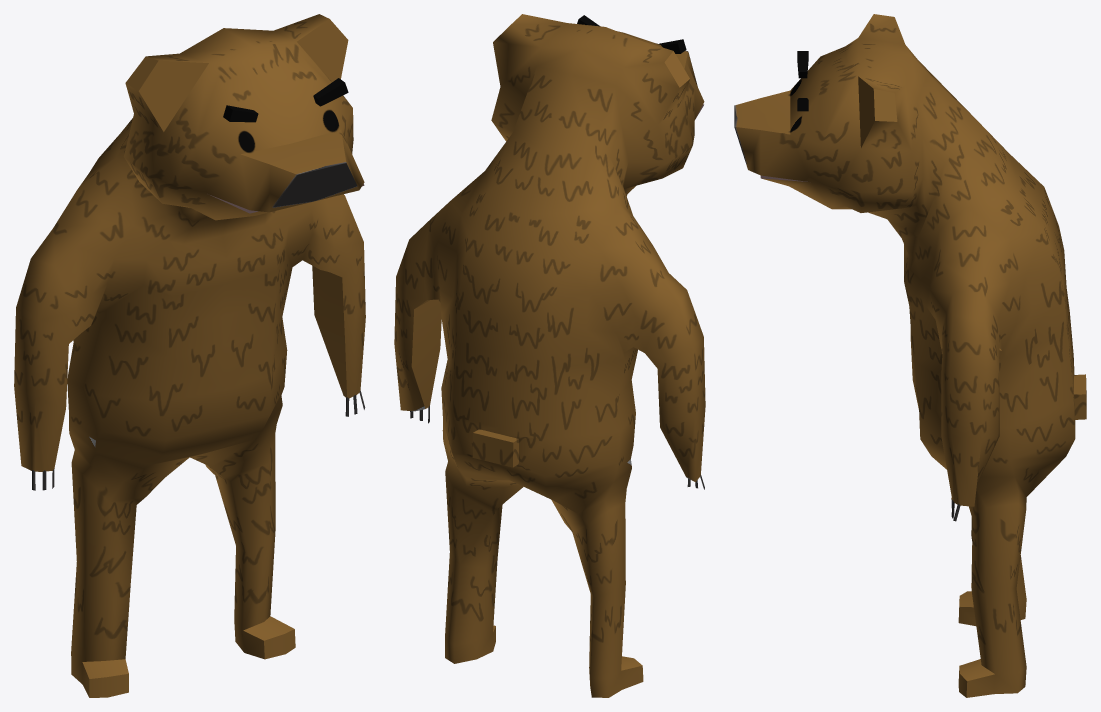
The model's file is bear.gltf.
The picture shows the model from 3 angles, left to right: view 1: azimuth 30°, elevation 25°; view 2: azimuth 150°, elevation 25°; view 3: azimuth 270°, elevation 25°; orthographic projection. The views are drawn at different scales.
Visible parts, largest first — view 1: bear.001; view 2: bear.001; view 3: bear.001.
Part boxes in pixels (box(x1,y1,x2,y2)): bear.001: box(14, 14, 365, 697); bear.001: box(394, 14, 705, 697); bear.001: box(734, 14, 1086, 697).
Bounding box in the file's own units: 2.07 × 3.9 × 2.07.
2 materials, 1 textured.
